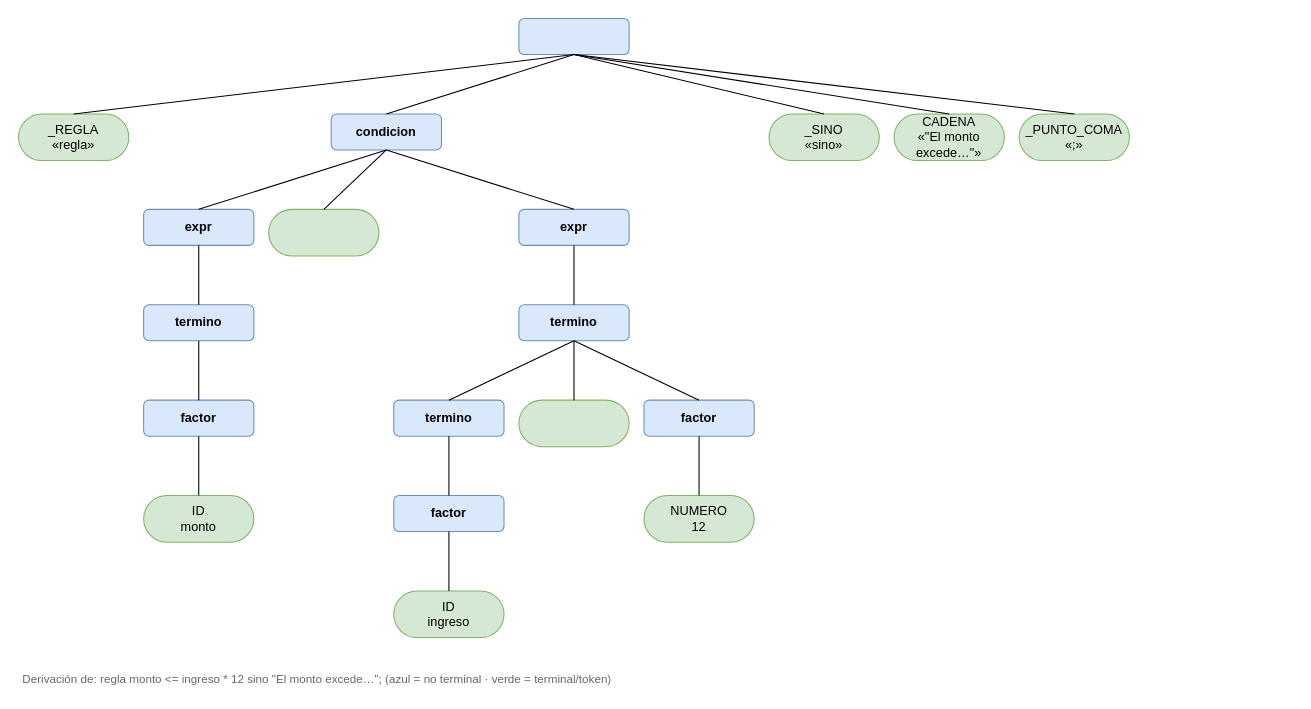
Some shapes in this 1311 by 709 pixel diagram are drawn without their labels. Each missing label, with the centre of its shape:
OPMUL «*»: (x=573, y=423)
OPREL «<=»: (x=323, y=232)
regla: (x=573, y=36)
